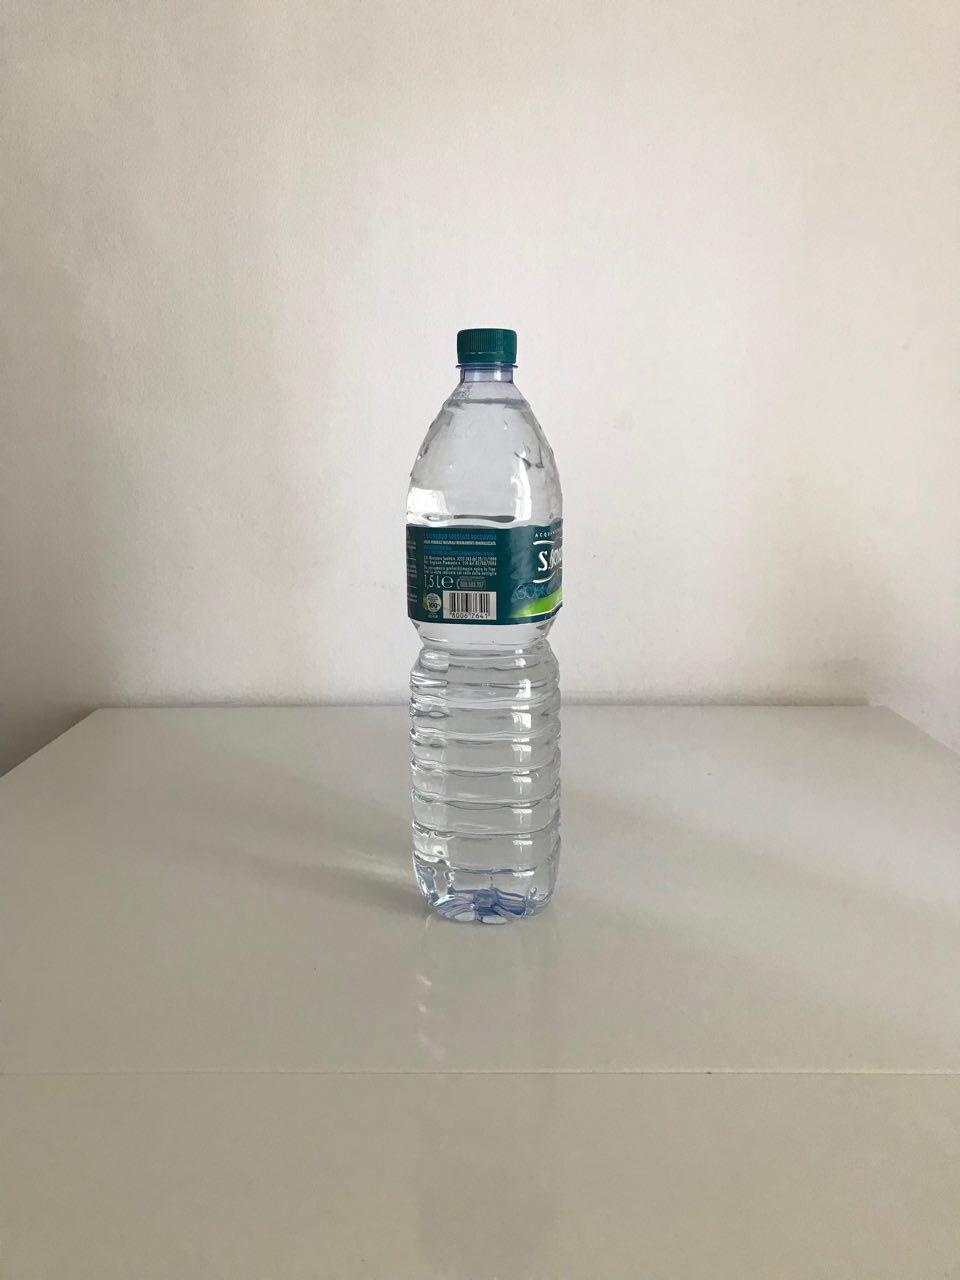san_bernardo: (403, 325, 567, 928)
